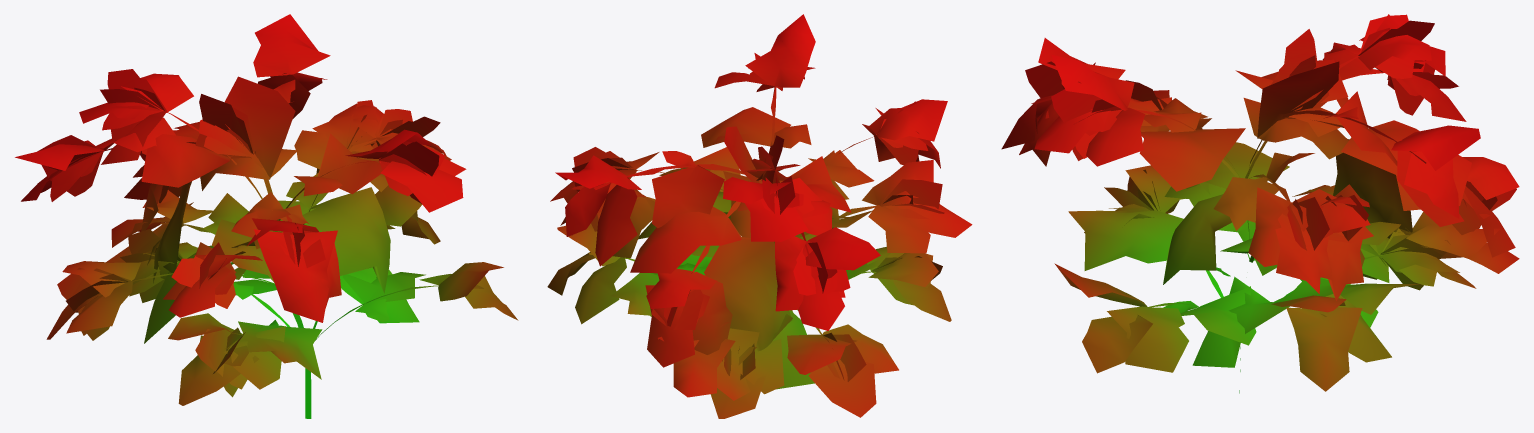
File: Var6_LOD4.fbx
The picture shows the model from 3 angles, left to right: view 1: azimuth 30°, elevation 25°; view 2: azimuth 150°, elevation 25°; view 3: azimuth 270°, elevation 25°; orthographic projection. The views are drawn at different scales.
Parts seen in each view (by area): view 1: _qgho_Var6_LOD4; view 2: _qgho_Var6_LOD4; view 3: _qgho_Var6_LOD4.
Part boxes in pixels (box(x1,y1,x2,y2)): _qgho_Var6_LOD4: box(15, 14, 518, 418); _qgho_Var6_LOD4: box(547, 14, 972, 418); _qgho_Var6_LOD4: box(1001, 14, 1519, 393).
Size of the model in its own units: 86.98 by 72.99 by 91.49.
